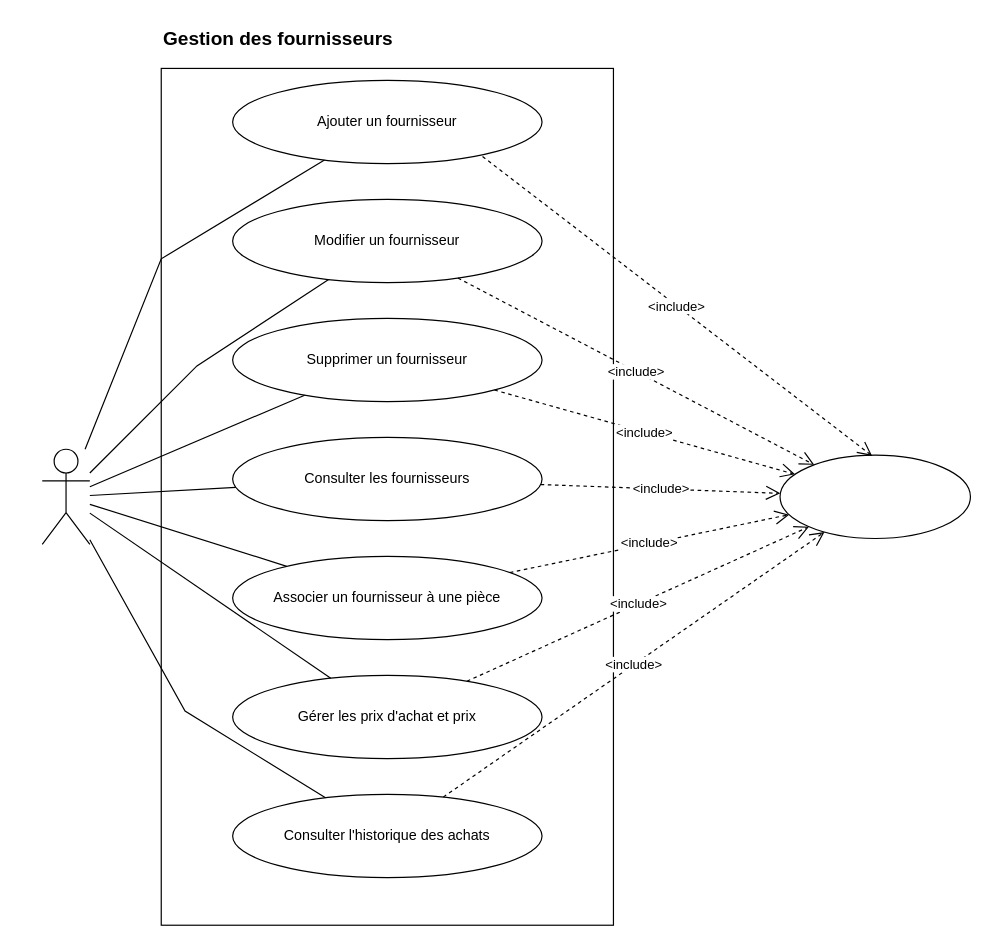
The diagram is 991 pixels wide and 946 high, and some of its shapes have lost their labels. The shapes that lost their labels are listed below. From the top down, each one's centre as x and y in pixels, then its label:
At (x=65, y=496): "Administrateur".
At (x=874, y=496): "S'authentifier".
